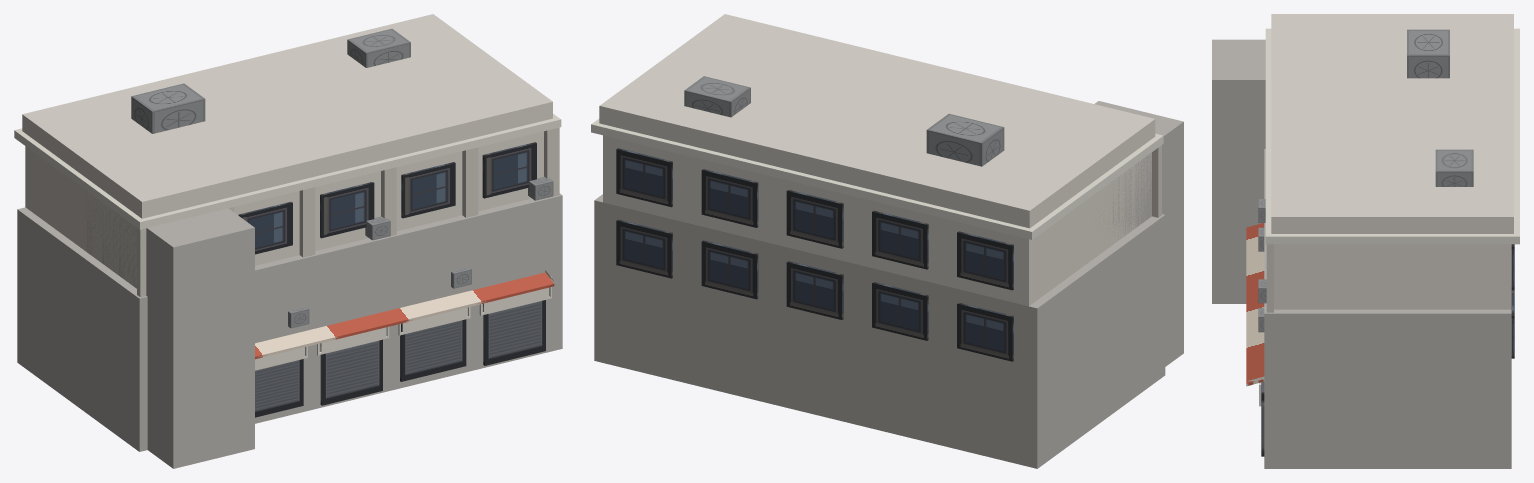
File: street-facade-02.glb
3 renders of one model, left to right at view 1: azimuth 30°, elevation 25°; view 2: azimuth 150°, elevation 25°; view 3: azimuth 270°, elevation 25°, orthographic. The views are drawn at different scales.
Visible parts, largest first — view 1: parapet, podium, notch-fill, body, storefront, windows, cornice, canopy, pilasters, roof-ac, wall-ac, sign-slot-2 (+2 smaller); view 2: podium, parapet, windows, body, notch-fill, cornice, roof-ac, pilasters; view 3: parapet, podium, body, notch-fill, cornice, roof-ac, canopy, wall-ac, pilasters, windows.
Part boxes in pixels (x1,y1,x2,y2): parapet: (22,14,552,218); podium: (17,193,562,451); notch-fill: (84,191,254,468); body: (25,131,543,288); storefront: (255,300,545,417); windows: (238,142,536,254); cornice: (14,114,561,229); canopy: (255,272,554,359); pilasters: (137,127,559,297); roof-ac: (131,28,410,133); wall-ac: (288,176,553,328); sign-slot-2: (321,327,386,353); podium: (594,194,1165,468); parapet: (599,14,1155,228); windows: (616,148,1013,361); body: (603,135,1151,306); notch-fill: (1094,101,1183,366); cornice: (591,118,1163,239); roof-ac: (684,76,1004,166); pilasters: (1152,145,1161,217); parapet: (1271,14,1513,233); podium: (1264,149,1511,468); body: (1274,244,1511,309); notch-fill: (1212,39,1265,303); cornice: (1265,28,1519,244); roof-ac: (1407,29,1473,186); canopy: (1246,223,1264,386); wall-ac: (1258,199,1266,332); pilasters: (1266,244,1273,312); windows: (1511,244,1514,358).
Size of the model in its own units: 20.8 by 12.6 by 12.95.
9 materials, 4 textured.
